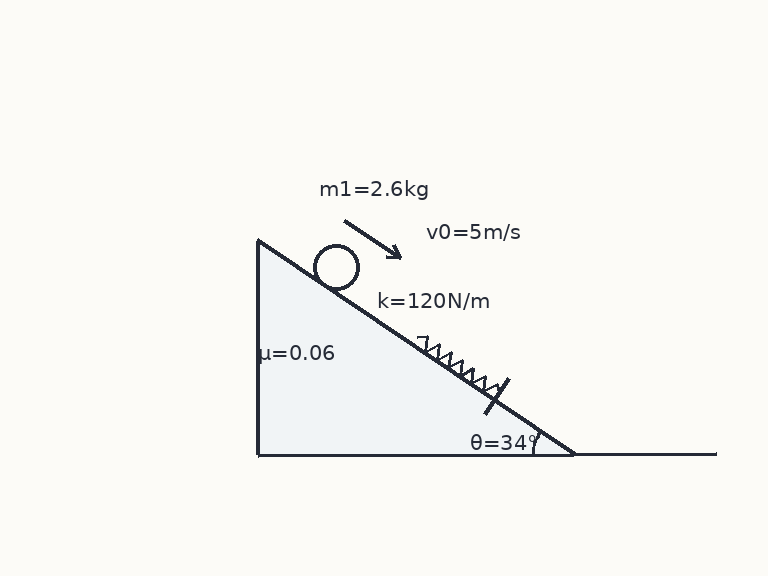ball: (311, 242, 361, 292)
ramp: (255, 239, 575, 456)
spring: (415, 334, 501, 395)
